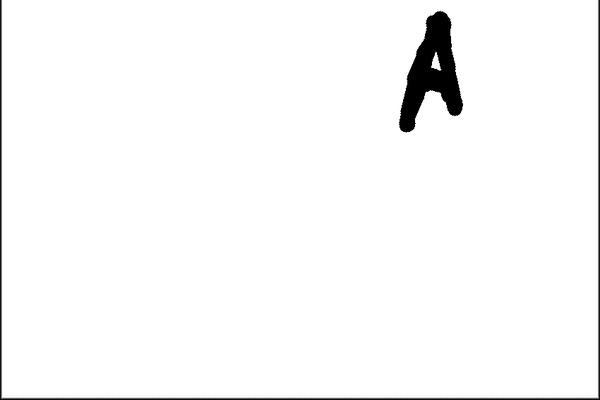A: (396, 9, 465, 137)
